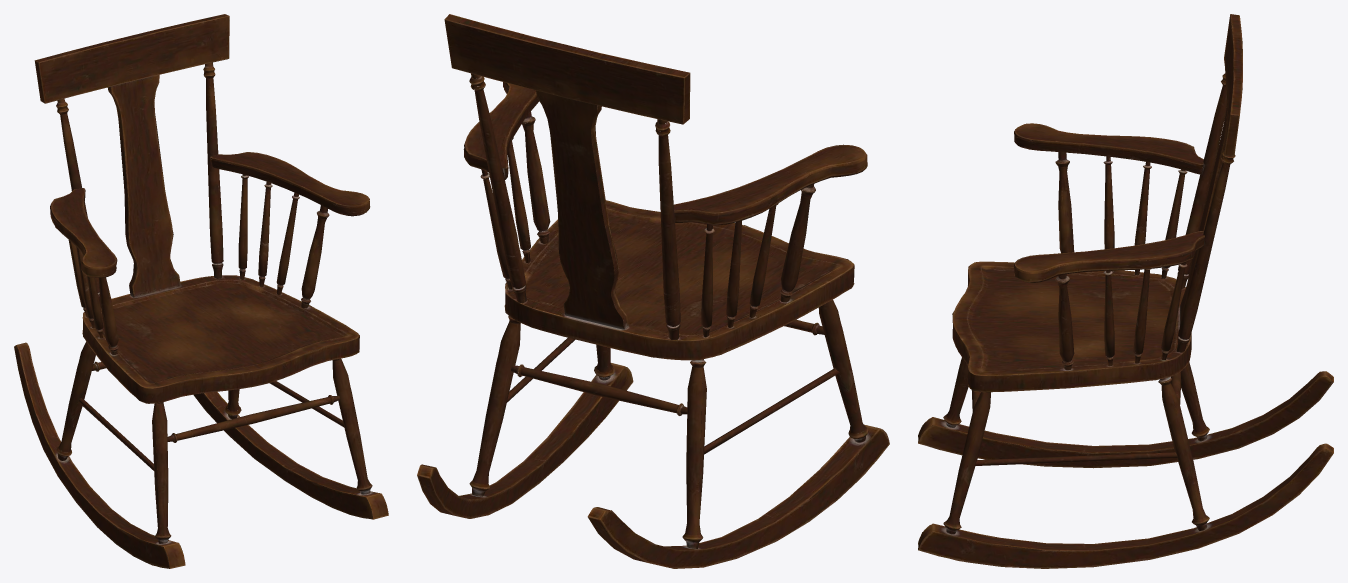
The model's file is rocking-chair.glb.
3 renders of one model, left to right at view 1: azimuth 30°, elevation 25°; view 2: azimuth 150°, elevation 25°; view 3: azimuth 270°, elevation 25°, orthographic. The views are drawn at different scales.
Visible parts, largest first — view 1: rocking-chair; view 2: rocking-chair; view 3: rocking-chair.
Boxes of the visible parts, x1,y1,x2,y2 form: rocking-chair: (14, 14, 388, 568); rocking-chair: (417, 14, 889, 568); rocking-chair: (918, 14, 1333, 568).
Size of the model in its own units: 0.7092 by 0.9949 by 0.8338.
1 material, 1 textured.
